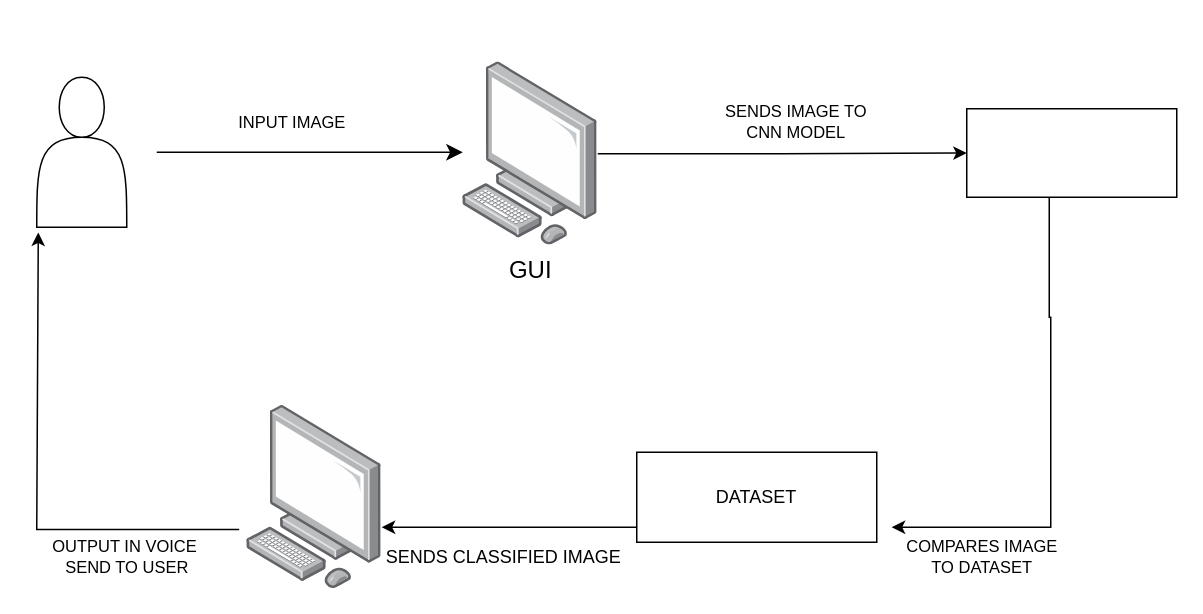
Some shapes in this 1203 by 614 pixel diagram are drawn without their labels. Each missing label, with the centre of its shape:
CNN MODEL: [1071,152]
USER: [81,151]
